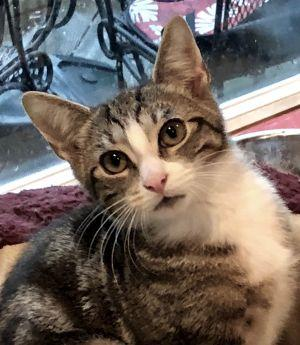bengal: (18, 12, 244, 236)
